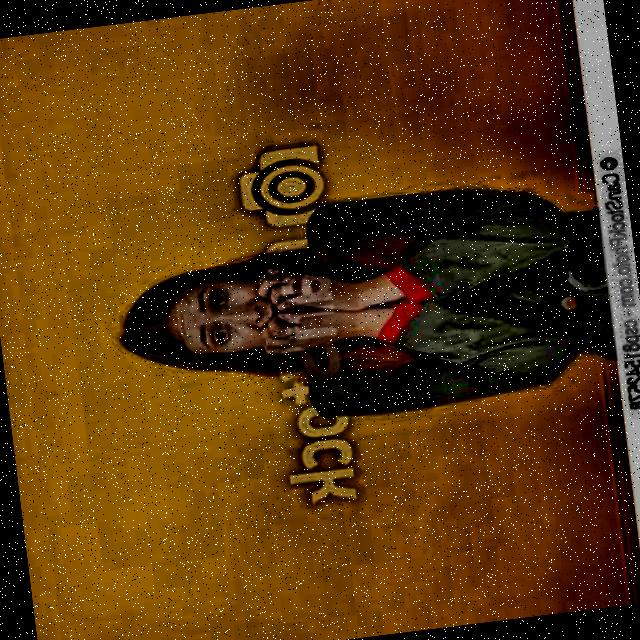fear: (105, 235, 357, 393)
